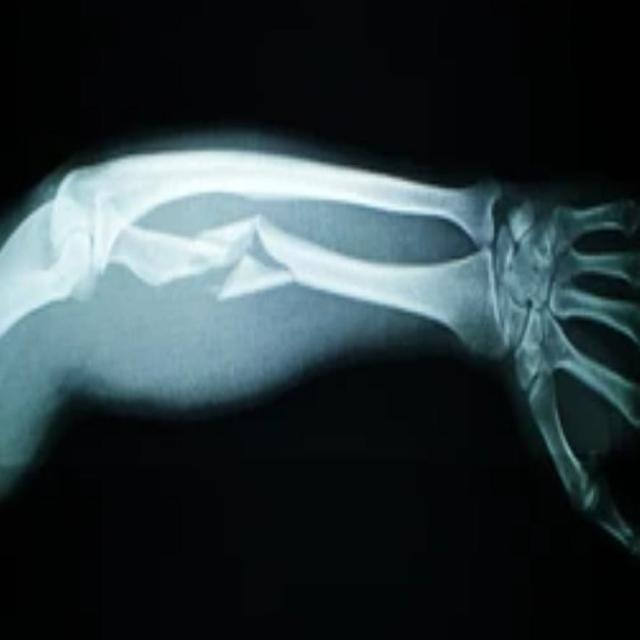bone: (154, 210, 302, 316)
